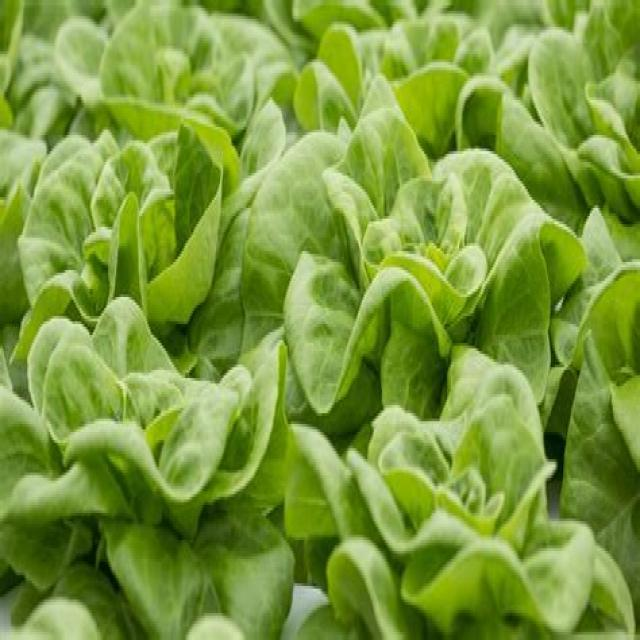Lettuce: (0, 297, 296, 640), (295, 355, 608, 640), (280, 148, 567, 412), (0, 124, 241, 371), (4, 0, 294, 142), (479, 0, 640, 217)
